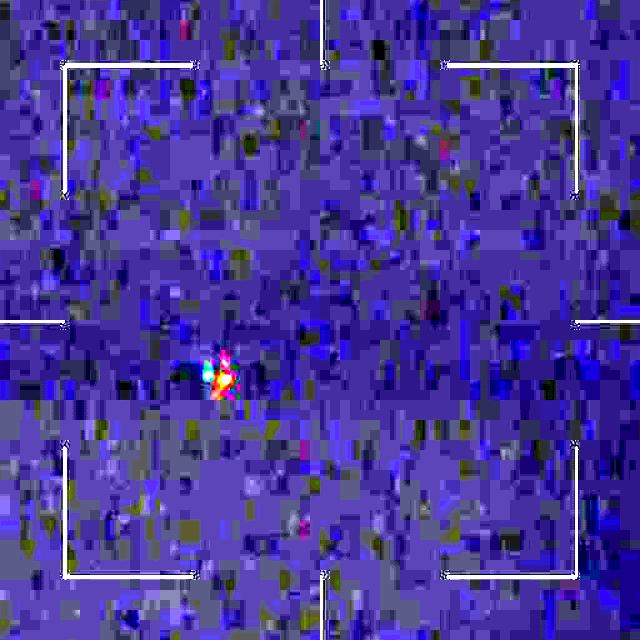bird: (201, 351, 234, 404)
